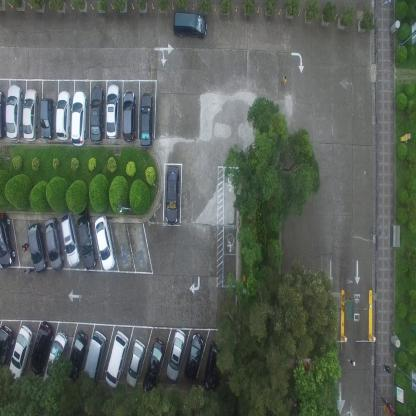car: (141, 337, 166, 397), (104, 330, 129, 389), (42, 330, 67, 387), (76, 206, 97, 270), (30, 318, 53, 376), (8, 324, 32, 379), (94, 213, 116, 272), (83, 330, 106, 384), (60, 210, 80, 266), (124, 339, 146, 389), (166, 328, 186, 383), (182, 334, 204, 384), (172, 10, 208, 40), (27, 221, 48, 272), (202, 340, 221, 396), (45, 216, 64, 272), (67, 331, 87, 382), (6, 82, 23, 141), (164, 164, 180, 226), (0, 212, 16, 270), (23, 87, 39, 142), (72, 90, 87, 148), (90, 84, 104, 144), (0, 322, 15, 378), (56, 90, 72, 142), (106, 83, 120, 140), (140, 92, 154, 148), (122, 92, 137, 143), (40, 96, 55, 141), (0, 89, 6, 141)
